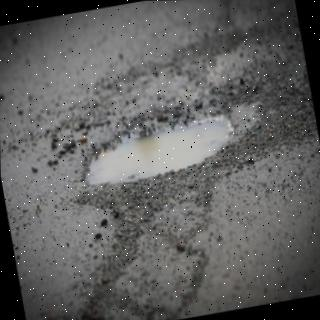pothole: (86, 119, 231, 185)
